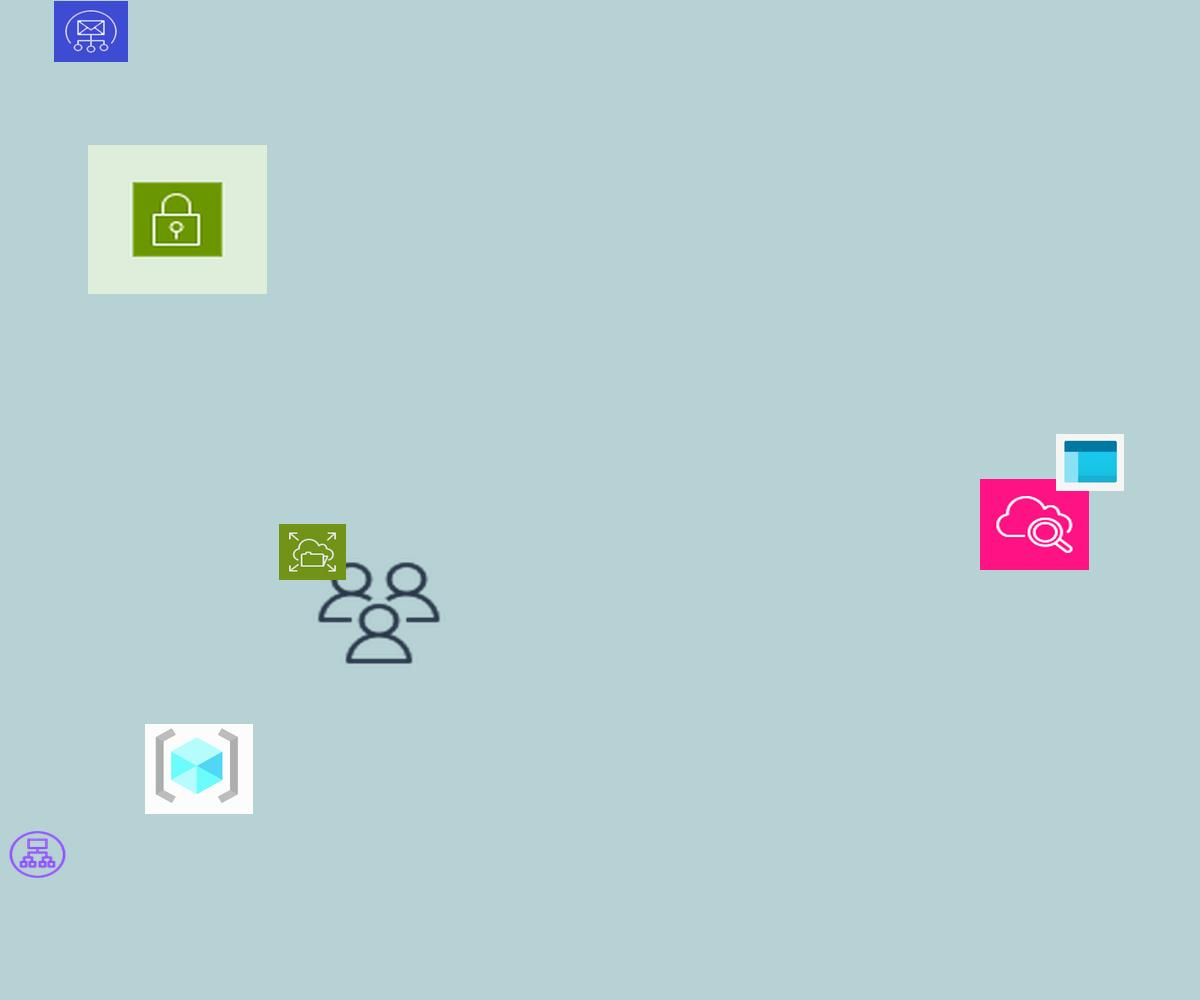AWS-CloudWatch: (980, 479, 1089, 570)
AWS-EFS: (279, 524, 346, 580)
AWS-Public-subnet: (88, 145, 267, 294)
AWS-Res_Elastic-Load-Balancing_Application-Load-Balancer: (7, 829, 68, 880)
AWS-Res_Users: (313, 558, 445, 668)
AWS-Simple-Email-Service: (54, 1, 128, 62)
Azure_management-portal: (1056, 434, 1124, 491)
Azure_resource_group: (145, 724, 253, 814)
